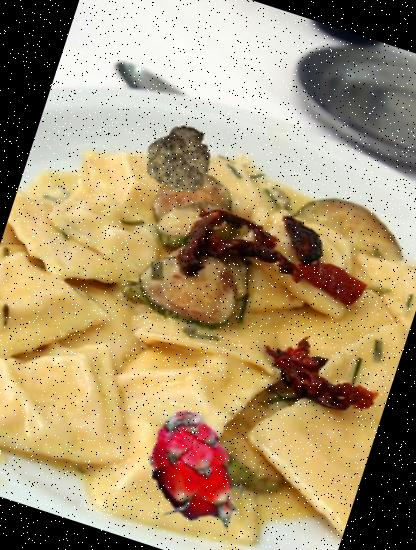Cauliflower: (133, 115, 222, 204)
Pitahaya: (115, 391, 276, 550)
